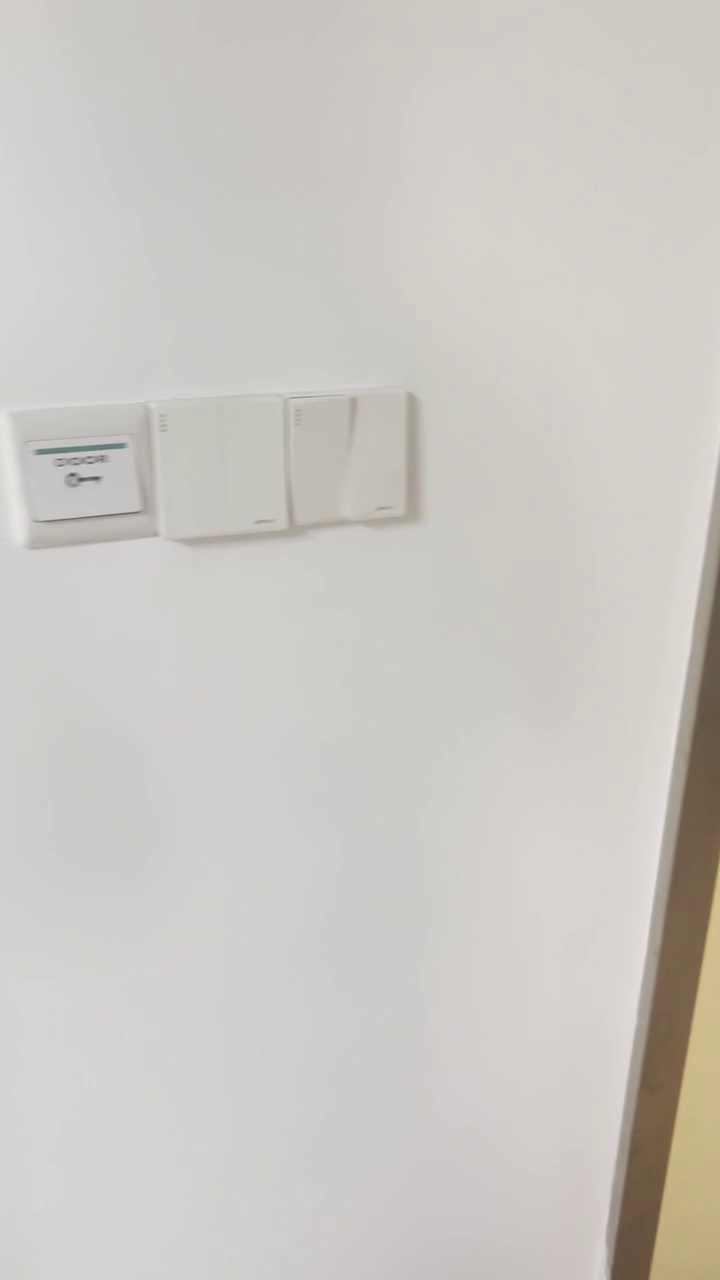button: (145, 391, 297, 546), (287, 384, 421, 533)
